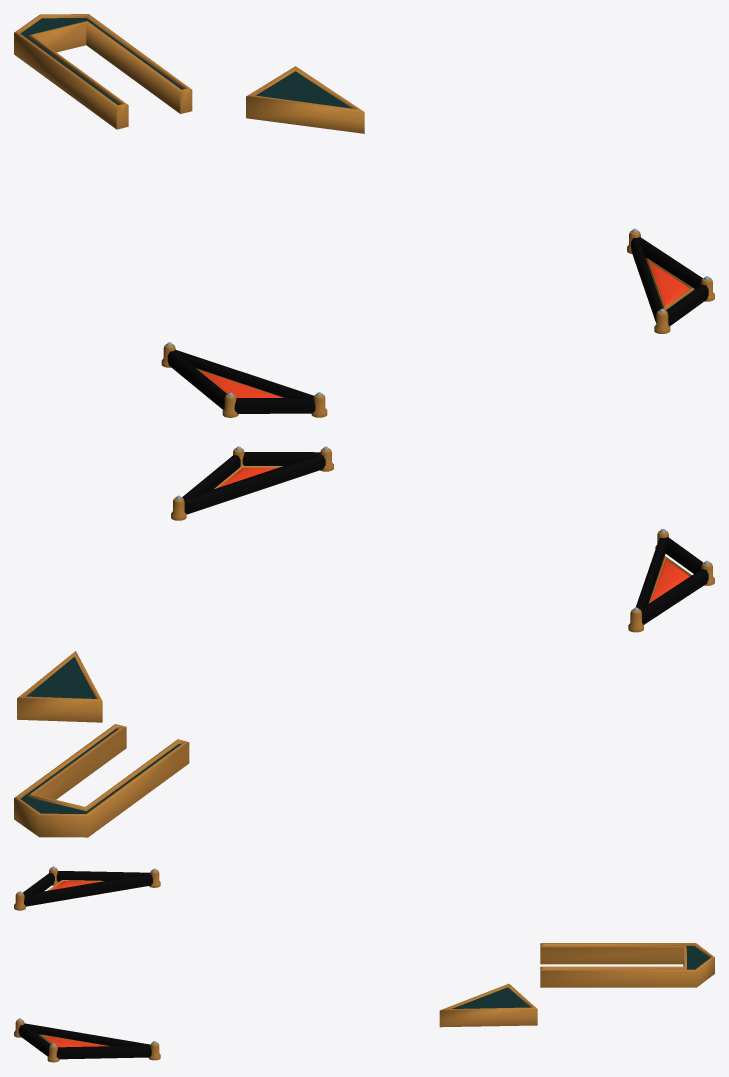
File: aurora-plastics.dae
The picture shows the model from 3 angles, top to bottom: view 1: azimuth 30°, elevation 25°; view 2: azimuth 150°, elevation 25°; view 3: azimuth 270°, elevation 25°; orthographic projection. The views are drawn at different scales.
Parts seen in each view (by area): view 1: accent, black_rubber, block_art, sling_lens; view 2: accent, black_rubber, block_art, sling_lens; view 3: accent, black_rubber, block_art, sling_lens.
Boxes of the visible parts, x1,y1,x2,y2 form: accent: (14, 14, 714, 417); black_rubber: (167, 237, 708, 413); block_art: (20, 18, 352, 108); sling_lens: (200, 261, 689, 397); accent: (14, 448, 714, 837); black_rubber: (182, 452, 708, 624); block_art: (20, 657, 181, 813); sling_lens: (219, 467, 689, 601); accent: (14, 868, 714, 1062); black_rubber: (18, 871, 152, 1059); block_art: (452, 946, 709, 1008); sling_lens: (44, 881, 106, 1047).
Bounding box in the file's own units: 0.6166 × 0.0272 × 1.
